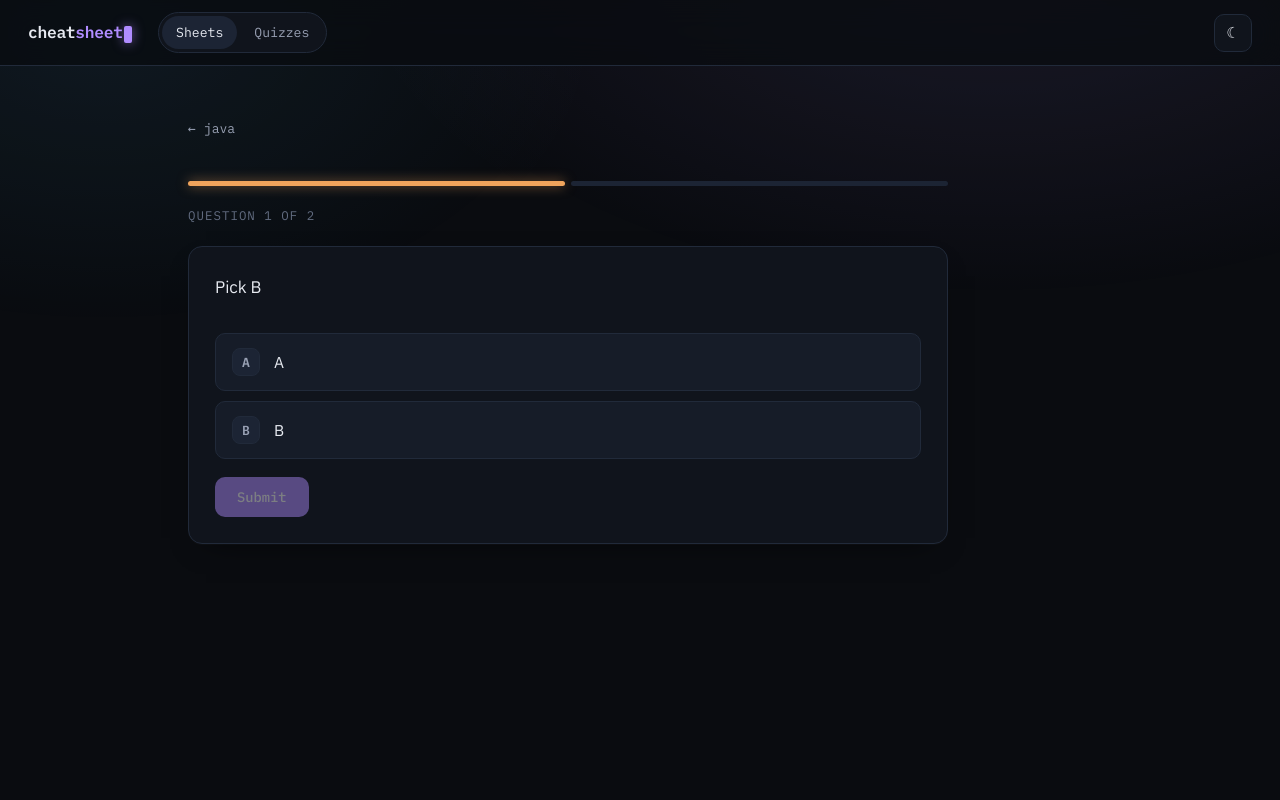
QuizRunner › runs through questions, scores, and persists the result
# Q1: answer correctly
Click the button "B": (279, 430) 215,402 -> 921,460
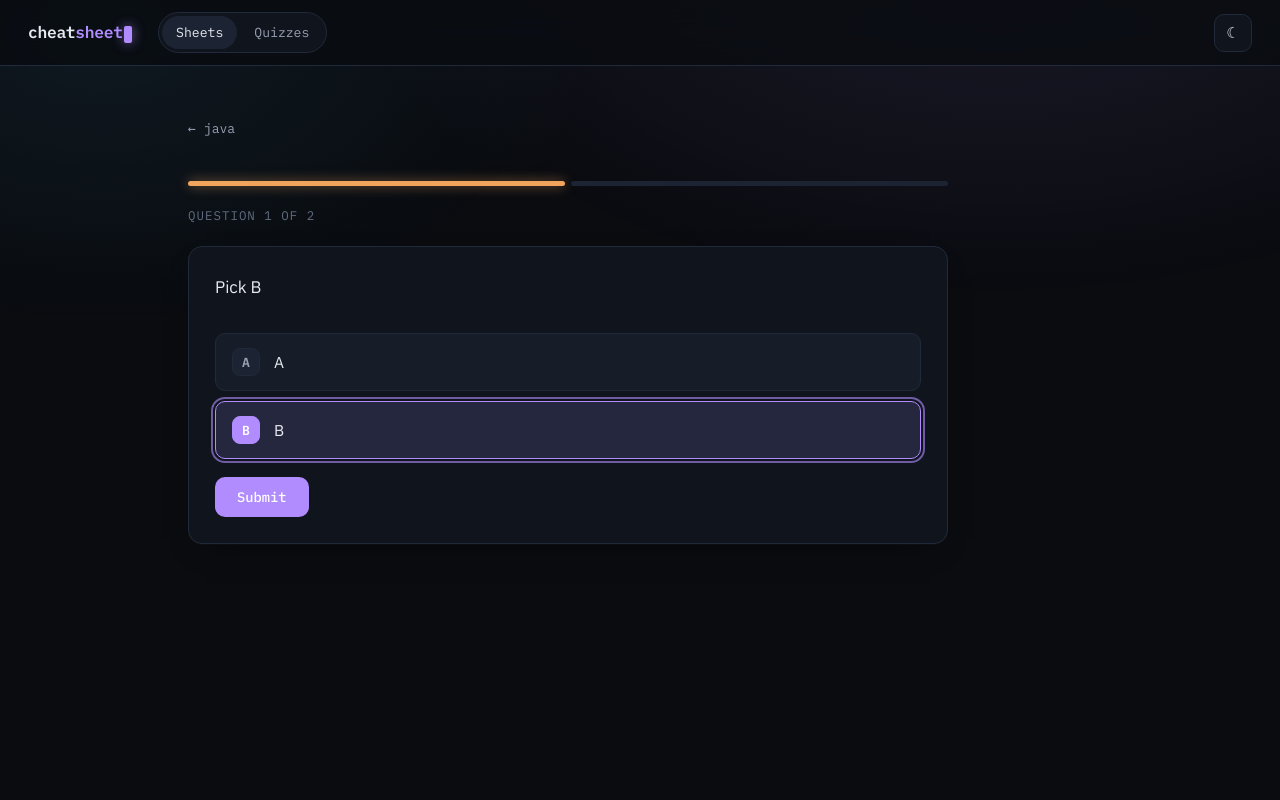
Click the button "Submit": (262, 498) 215,478 -> 308,518
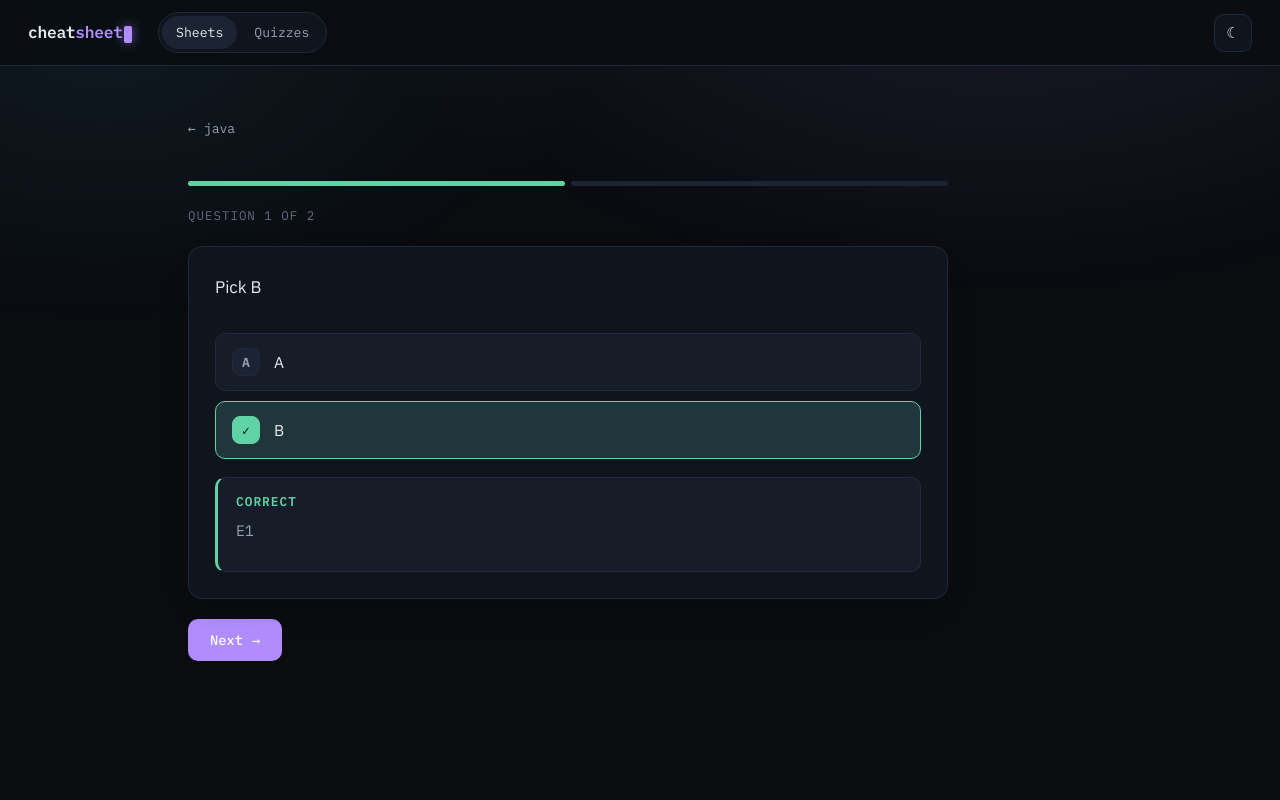
Click the button "Next →": (235, 640) 188,619 -> 282,661
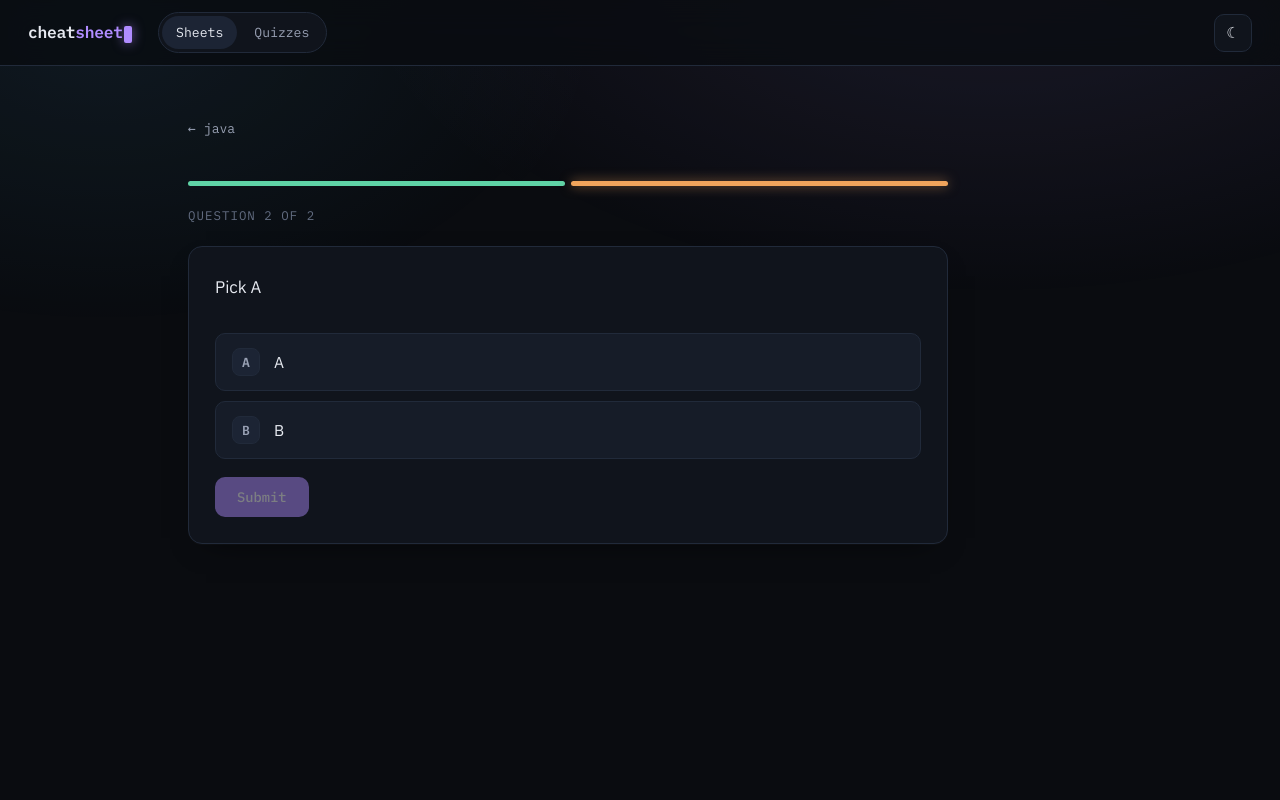
# Q2: answer incorrectly (pick B when A is correct)
Click the button "B": (279, 430) 215,402 -> 921,460
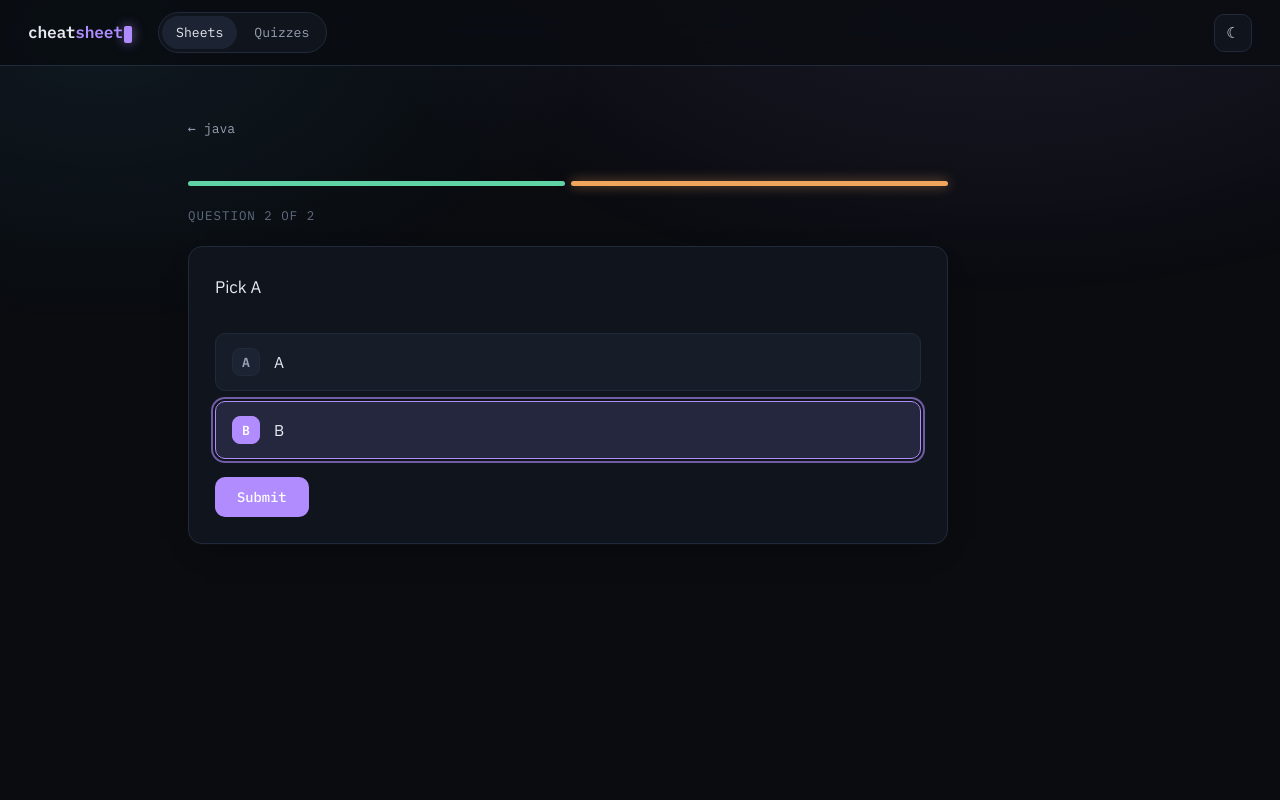
Click the button "Submit": (262, 498) 215,478 -> 308,518
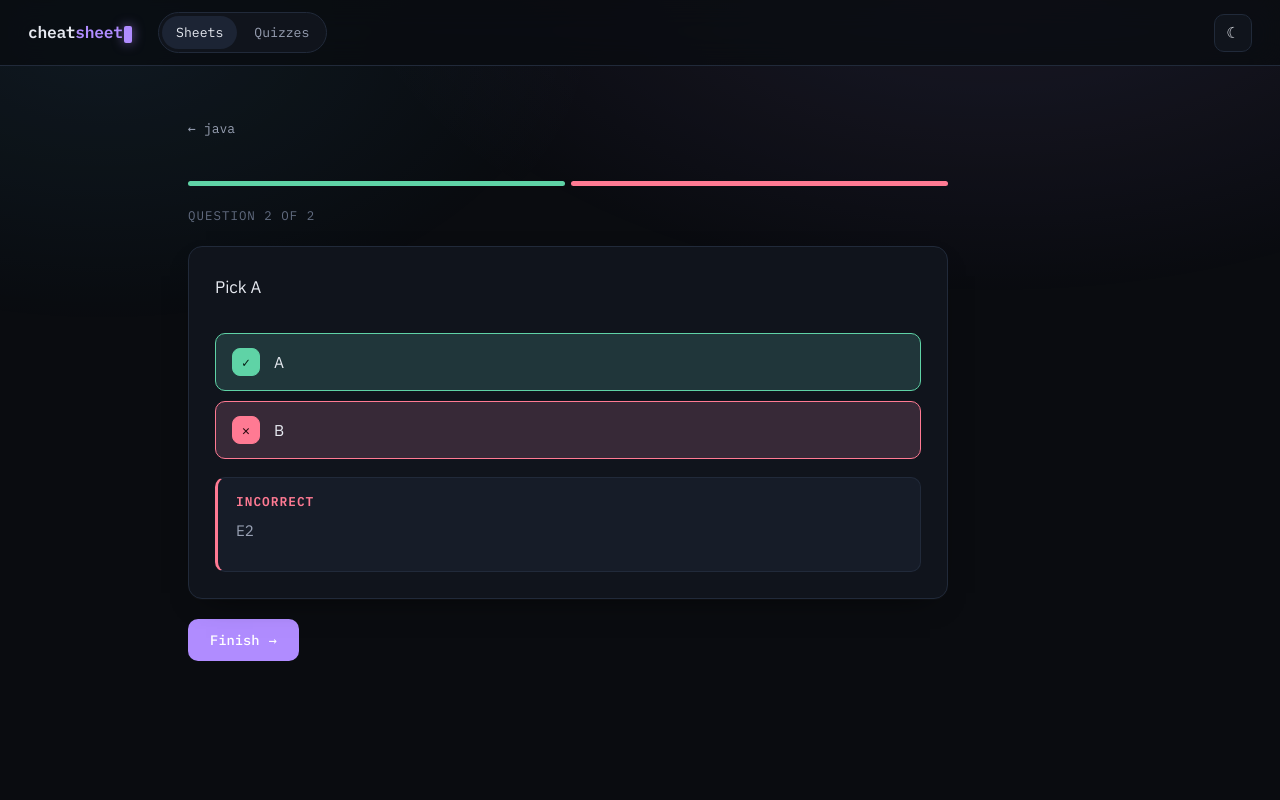
Click the button "Finish →": (243, 640) 188,619 -> 299,661
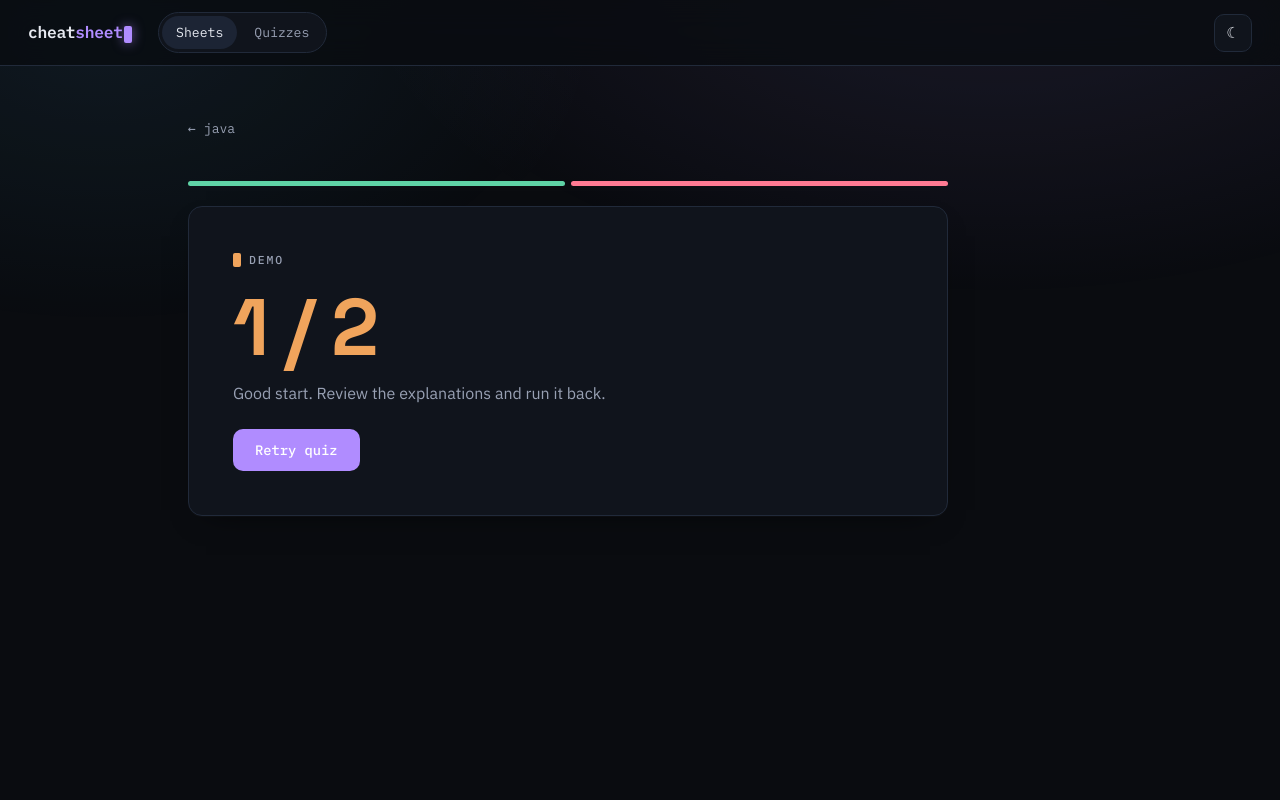
Now the text "1 / 2" is shown, box 233,287 -> 376,367
